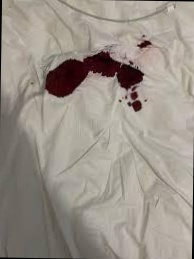blood: (44, 51, 144, 108)
